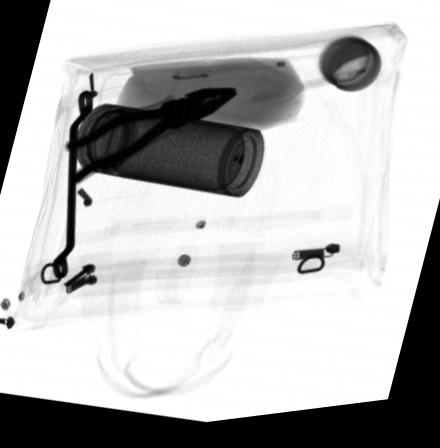Pliers: (64, 93, 236, 186)
Wrench: (52, 93, 92, 281)
